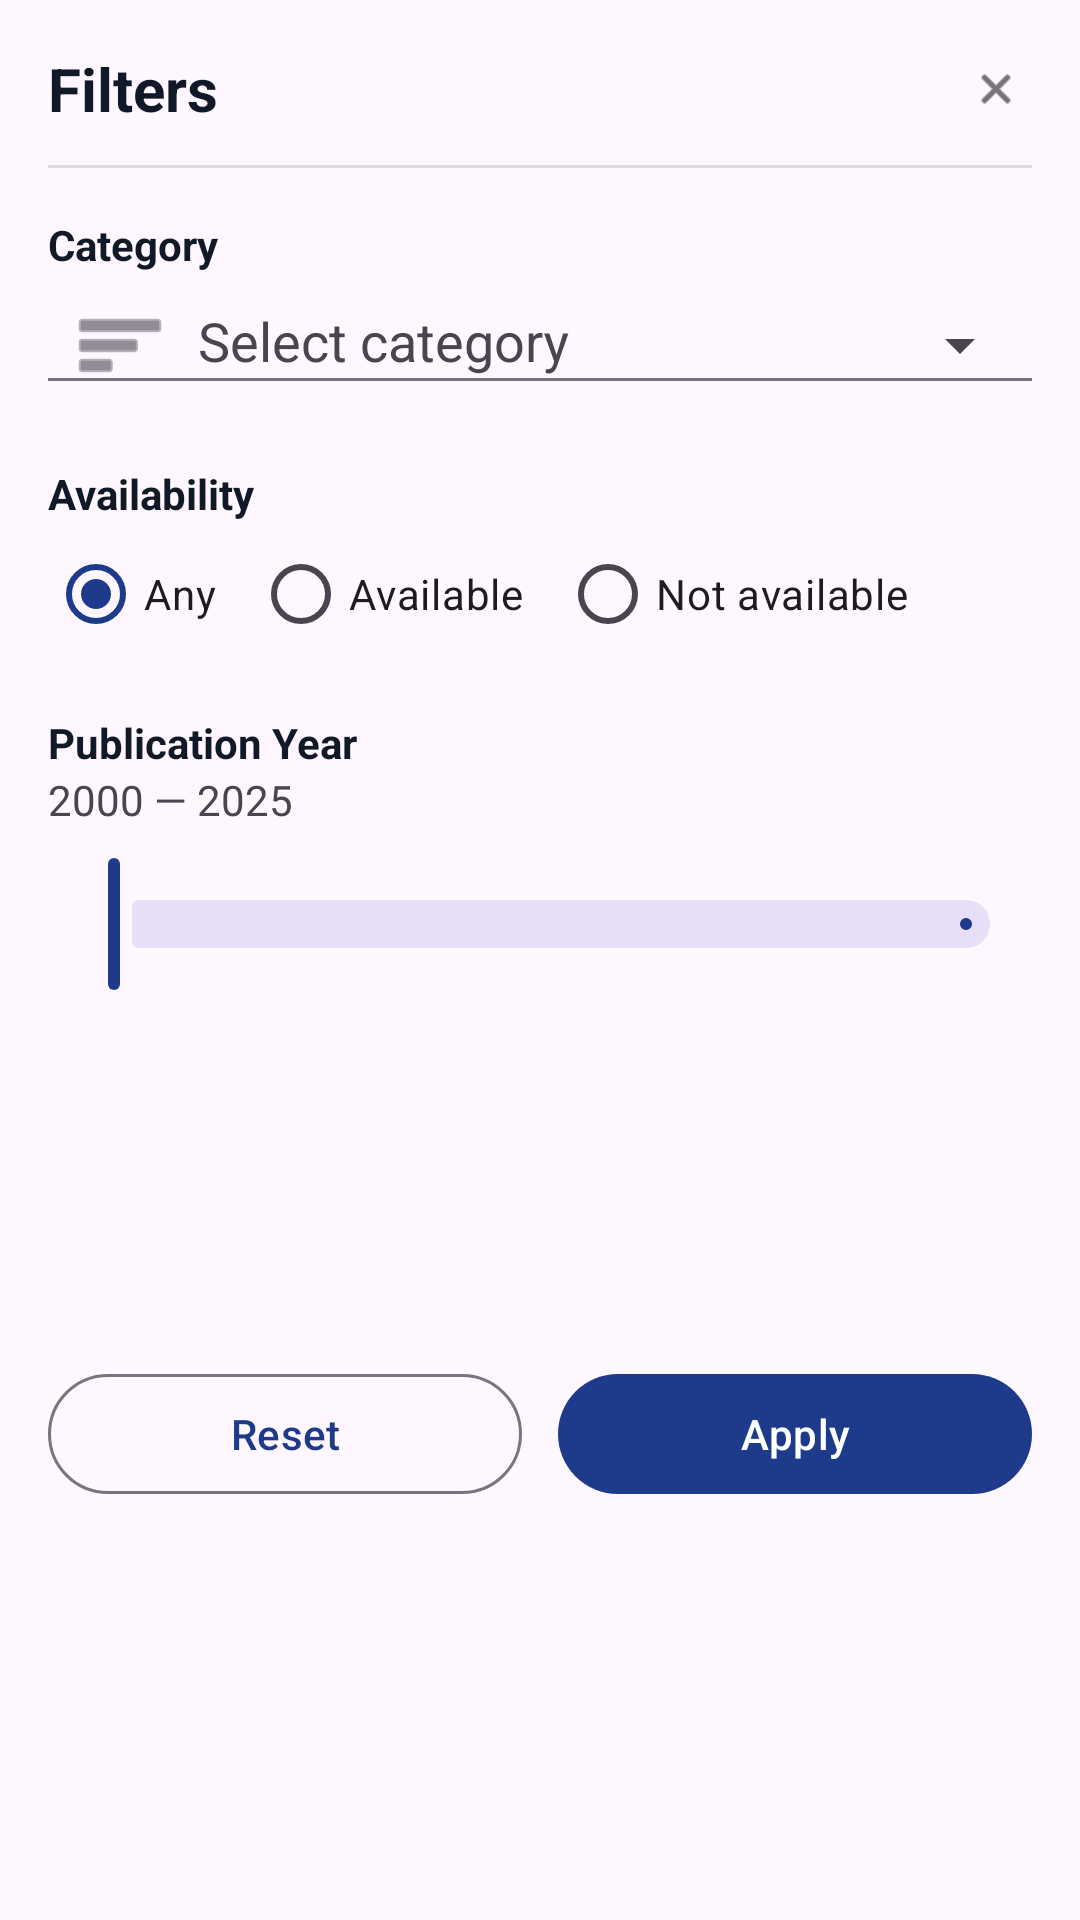

Icons on this 1080w x 1920h Android screen, each with the point to tap as (x=x, y=y):
Close: (x=996, y=89)
